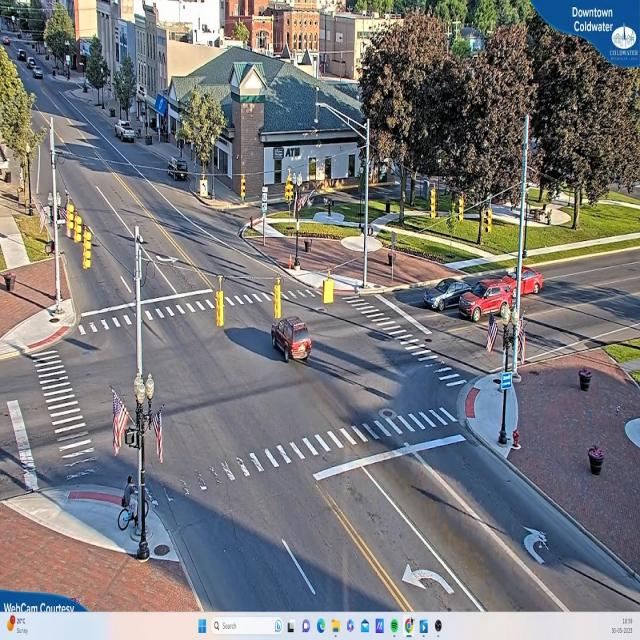car: (460, 279, 506, 331), (269, 318, 313, 367), (420, 274, 463, 310), (509, 260, 542, 300), (165, 159, 189, 180), (116, 123, 136, 143)
